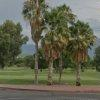Palm tree: (21, 0, 92, 81)
